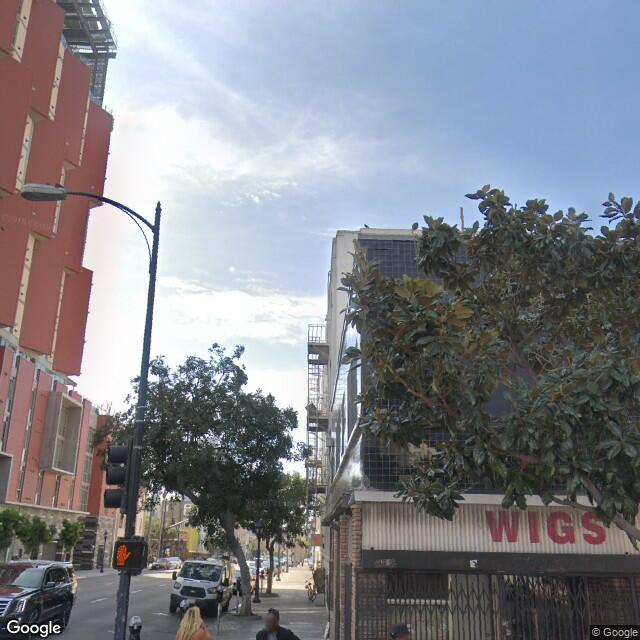light: (17, 184, 89, 203)
